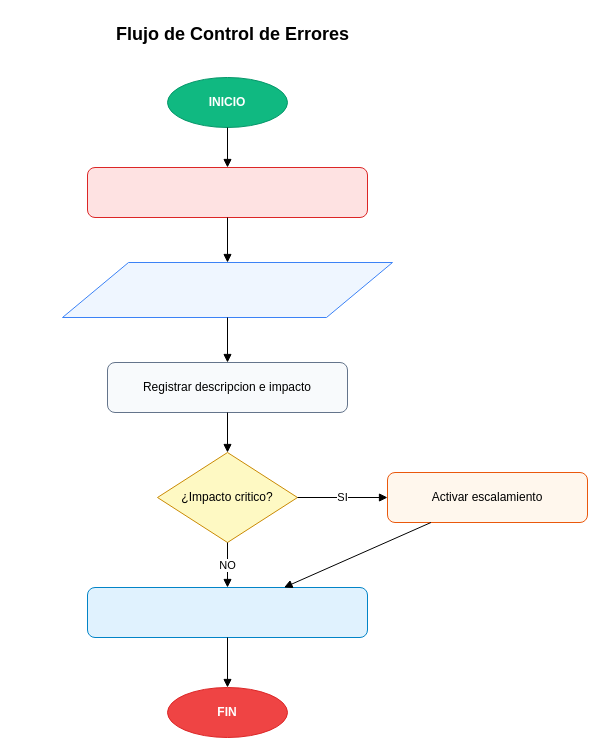
Some shapes in this 605 by 755 pixel diagram are drawn without their labels. Here are the shapes that lost their labels. From the top down, the centre of each, then its label:
At [227,192]: "Tecnico detecta error o causa tecnica".
At [227,290]: "Clasificar error: software, hardware, red o usuario".
At [227,612]: "Guardar error en bitacora del ticket".
